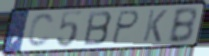5: (55, 10, 86, 49)
B: (81, 10, 114, 47), (166, 6, 198, 44)
C: (26, 12, 56, 49)
K: (141, 9, 169, 44)
P: (109, 9, 142, 46)
